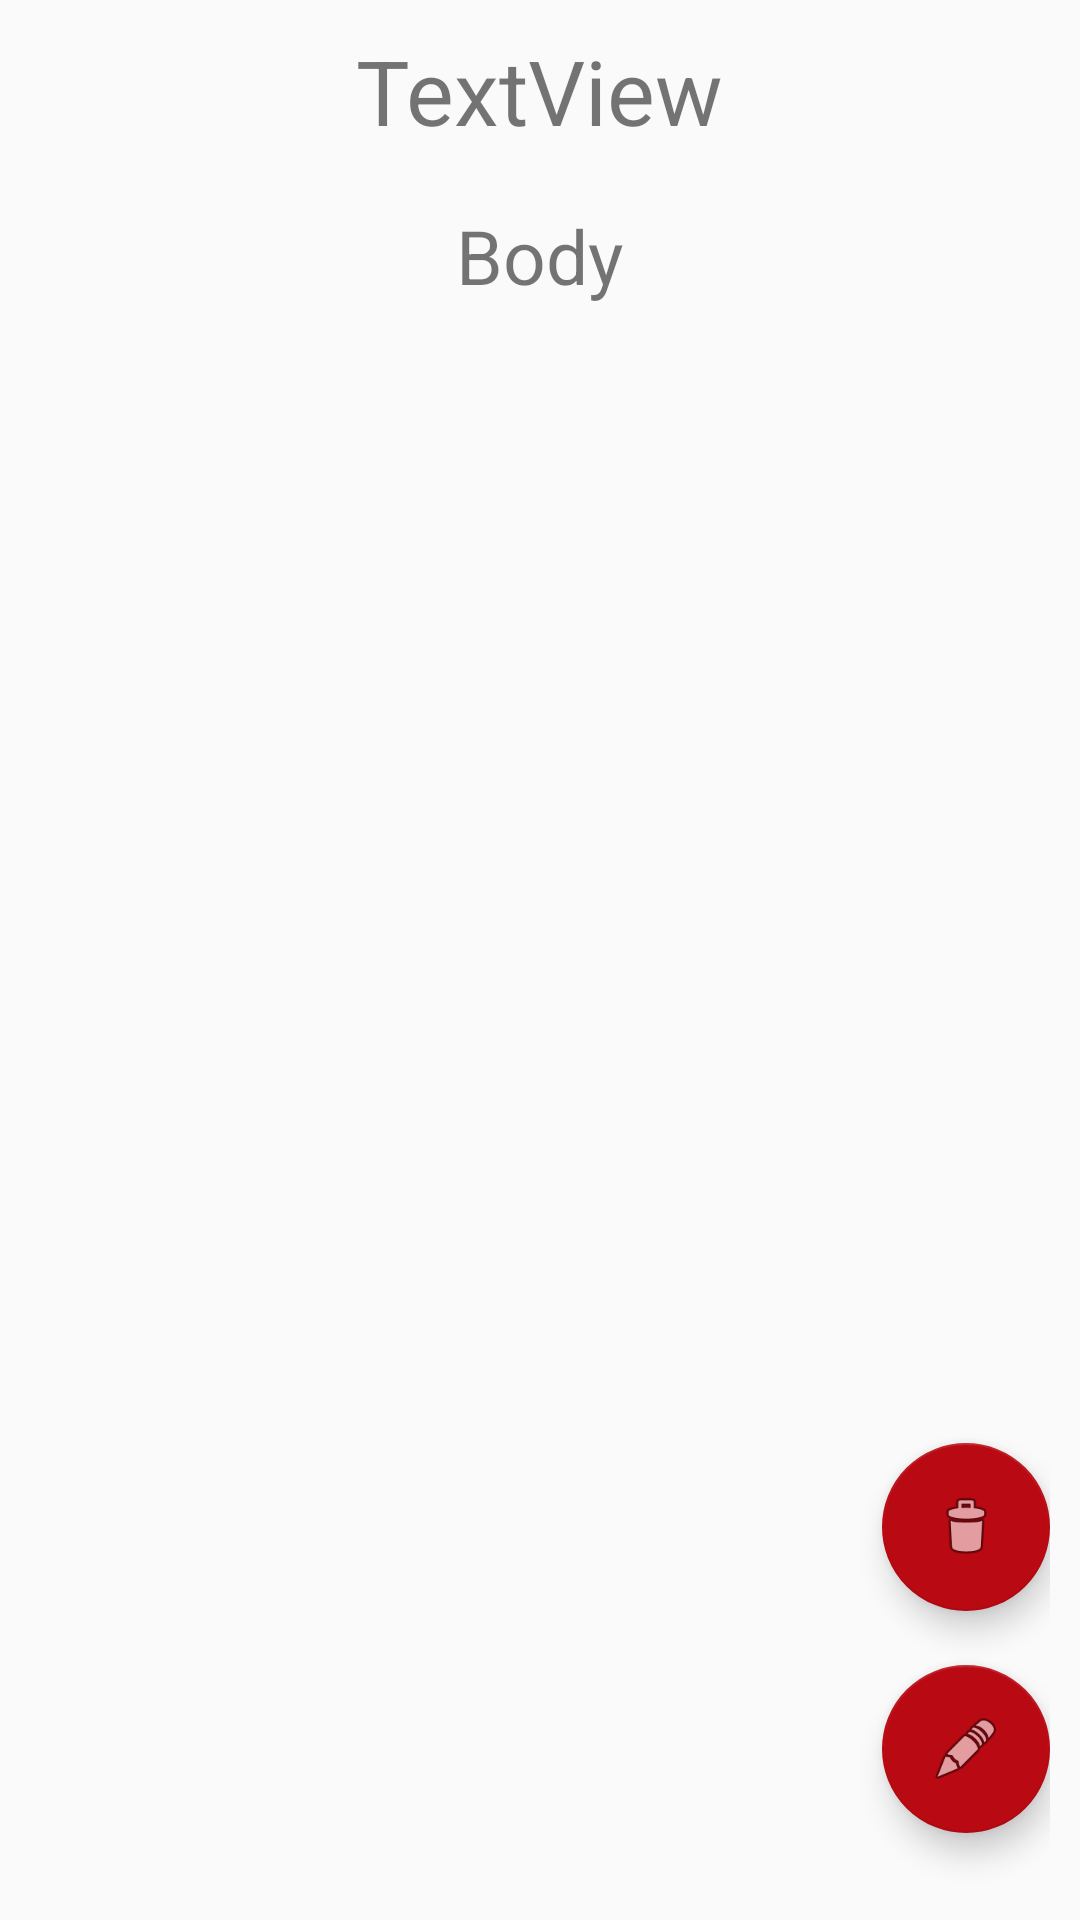

Where icons sit on this 1080px x 1920px app screen, as (x1, y1, x2, y2):
delete: (882, 1443, 1050, 1611)
edit: (882, 1665, 1050, 1833)
